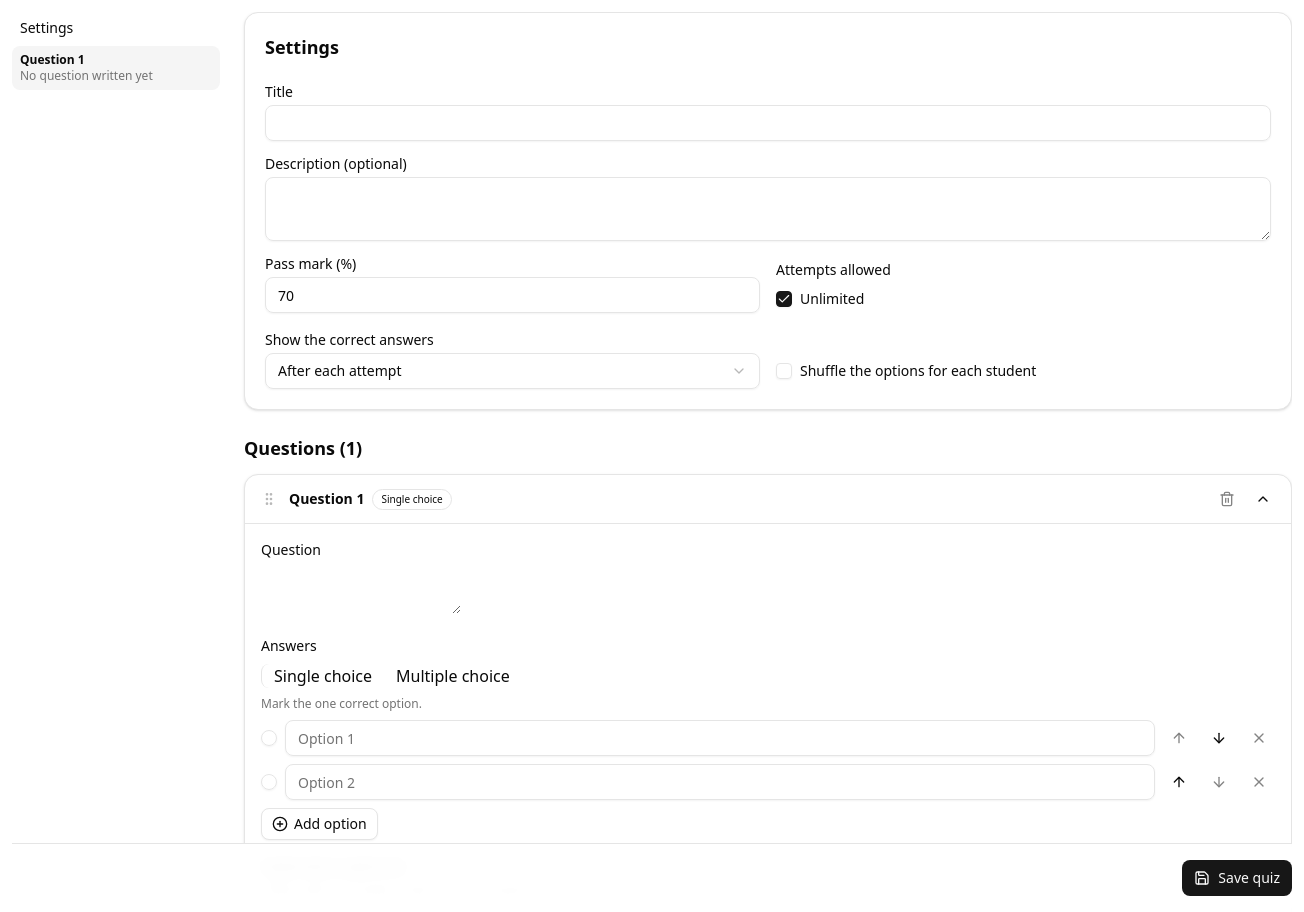
QuizBuilder › points at what needs fixing instead of saving
Step 1. Click the button "Save quiz" → {"x": 1237, "y": 878}, box [1182,860,1292,896]
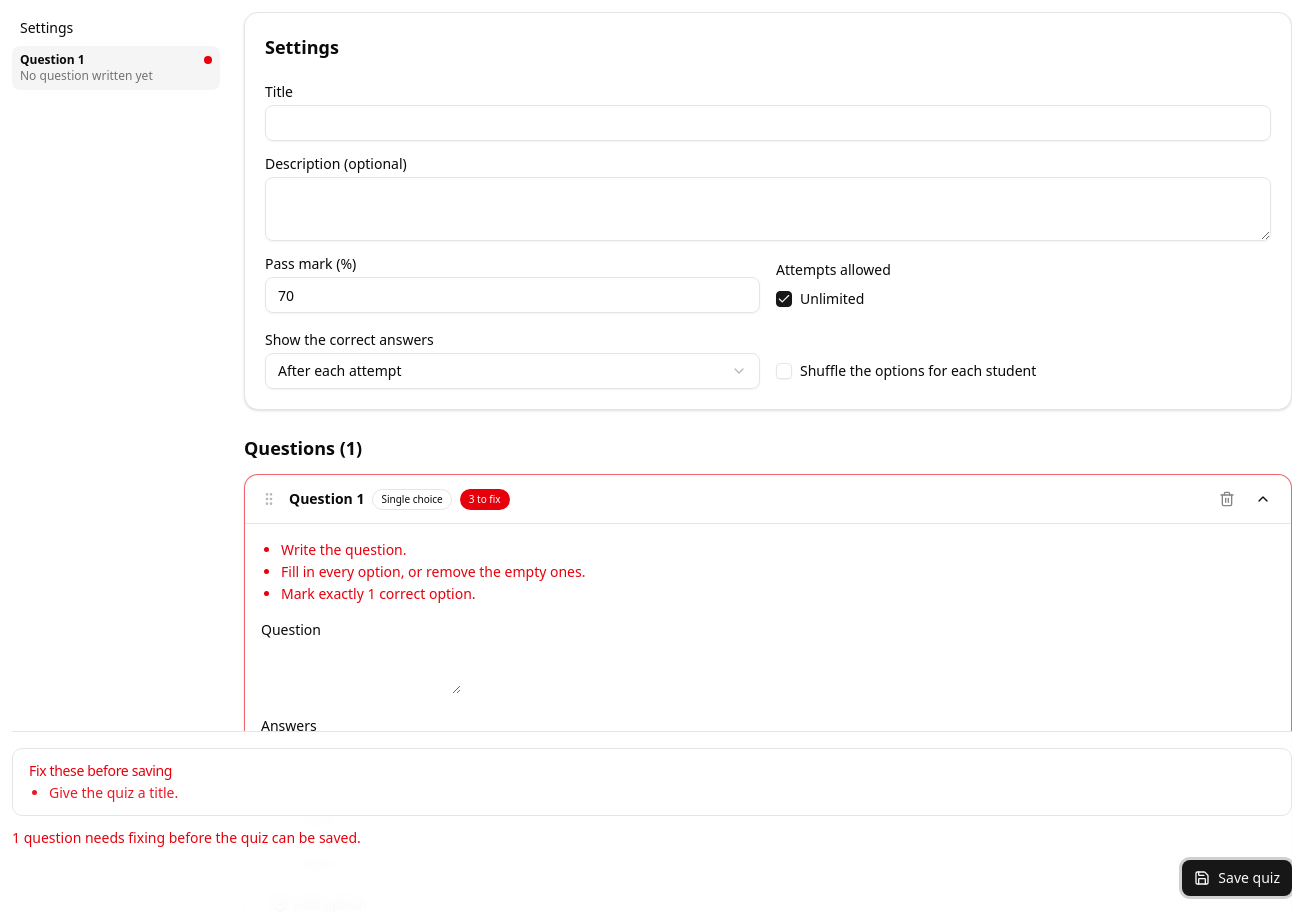
Expected: the list item "Give the quiz a title." is shown, [49,783,178,803]
Expected: the text "1 question needs fixing before the quiz can be saved." is shown, [12,828,361,847]
Expected: the list item "Write the question." is shown, [281,540,406,559]
